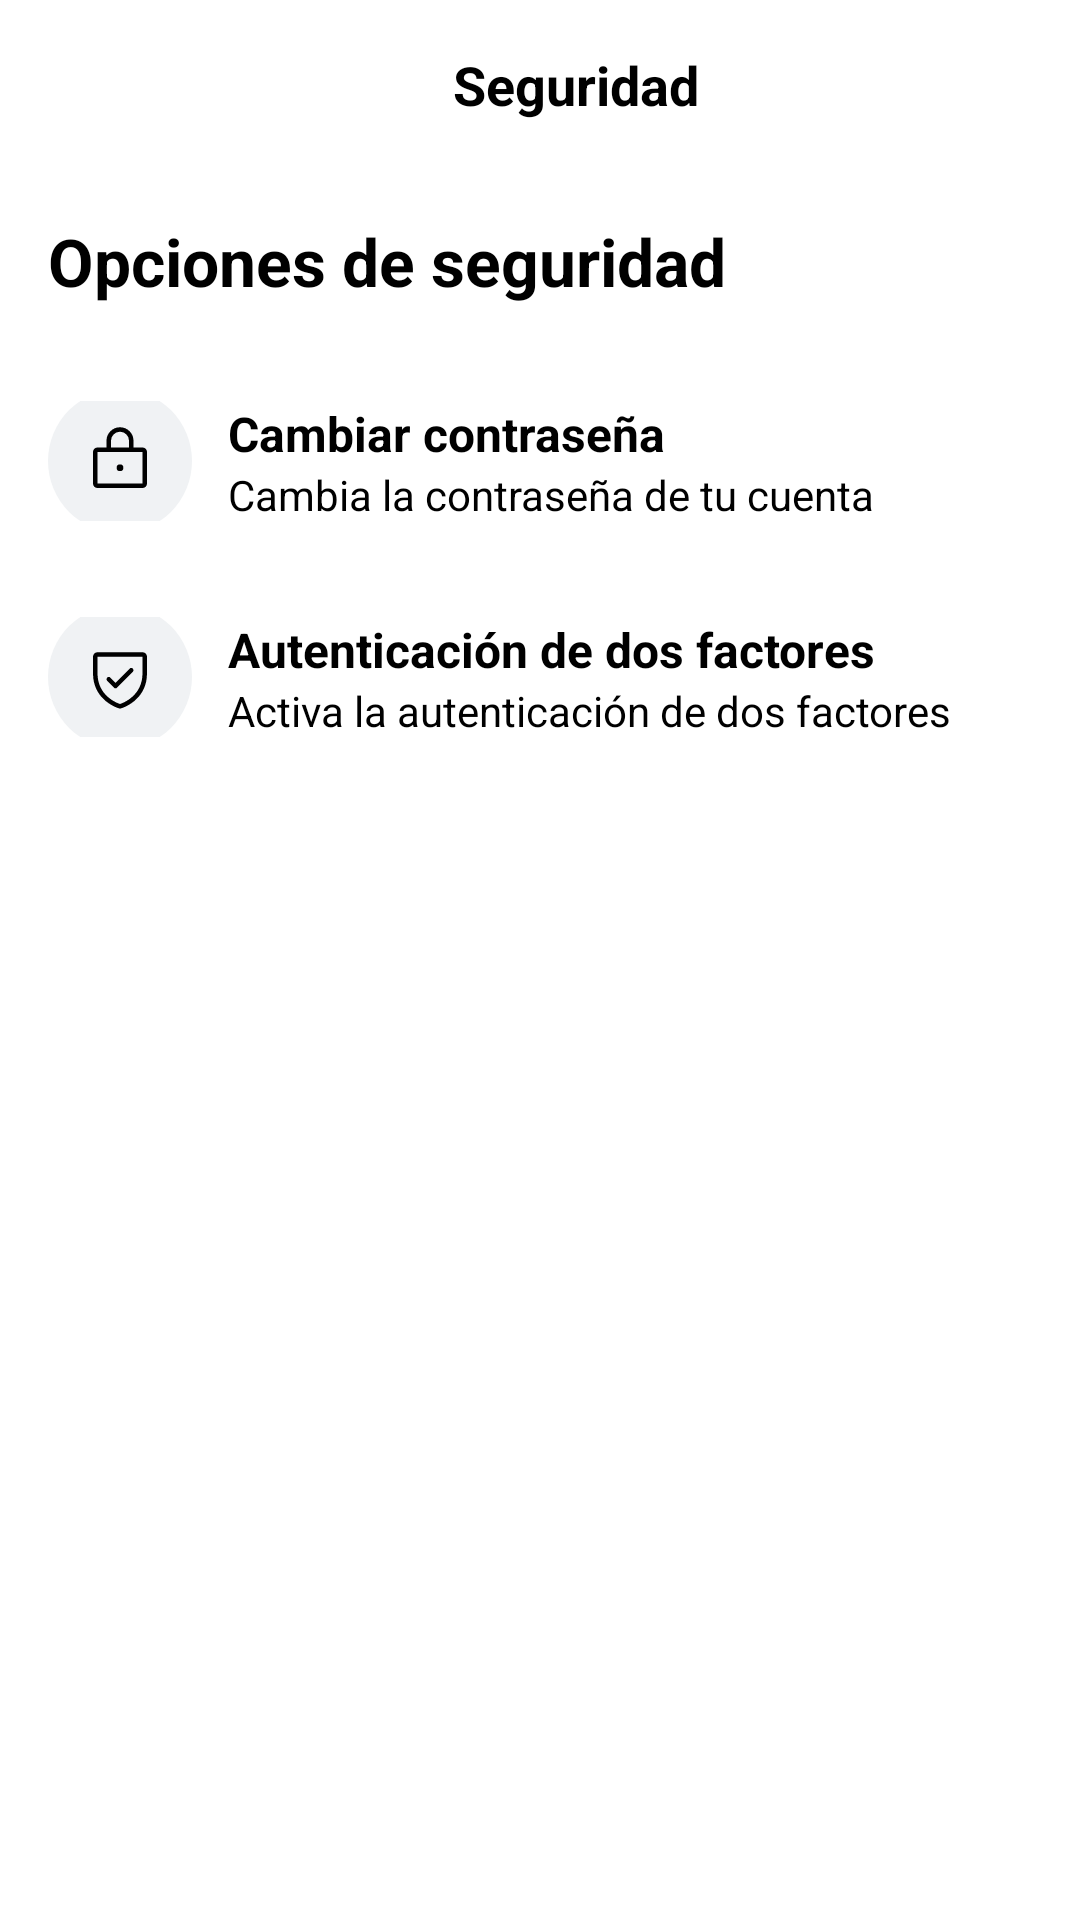

Point at icon controls on the screen. Image size 1080px×1920px, points as (x=x, y=y).
lock: (x=120, y=461)
shield check: (x=120, y=677)
